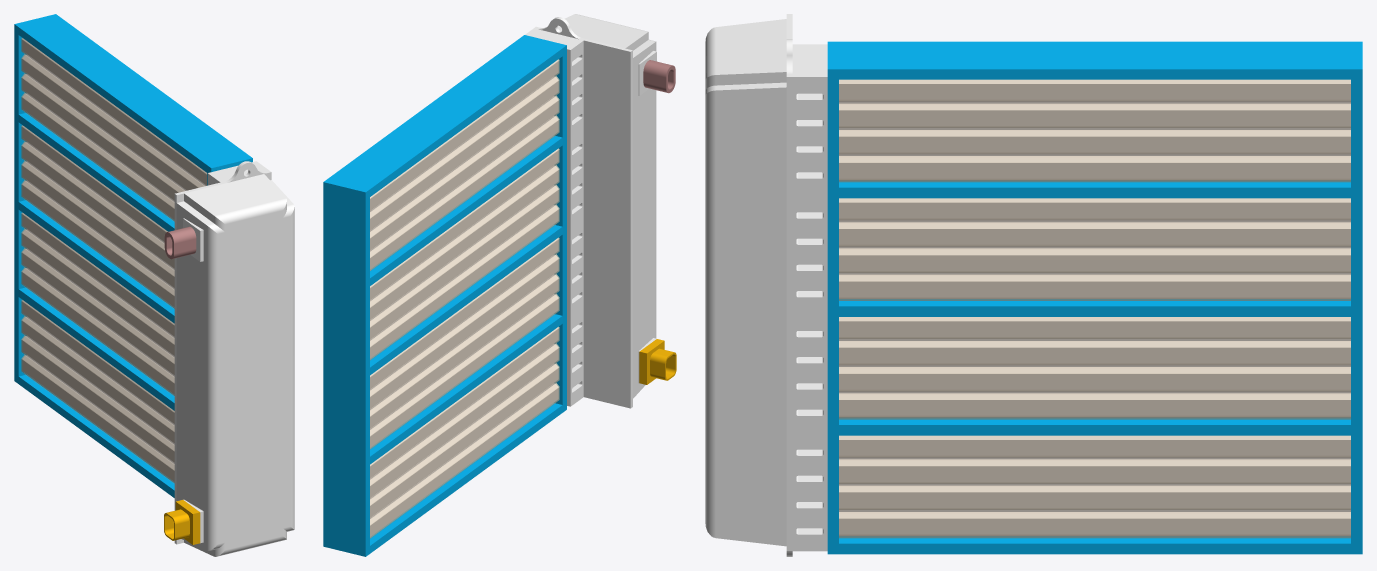
File: PTC-v5.glb
3 views of the same model, side by side, from view 1: azimuth 30°, elevation 25°; view 2: azimuth 150°, elevation 25°; view 3: azimuth 270°, elevation 25° (orthographic). The views are drawn at different scales.
Visible parts, largest first — view 1: Housing(Housing.1); view 2: Housing(Housing.1); view 3: Housing(Housing.1).
Boxes of the visible parts, box(x1,y1,x2,y2) form: Housing(Housing.1): box(14, 14, 294, 556); Housing(Housing.1): box(323, 14, 676, 556); Housing(Housing.1): box(705, 14, 1362, 556).
Size of the model in its own units: 0.079 by 0.2445 by 0.2825.
